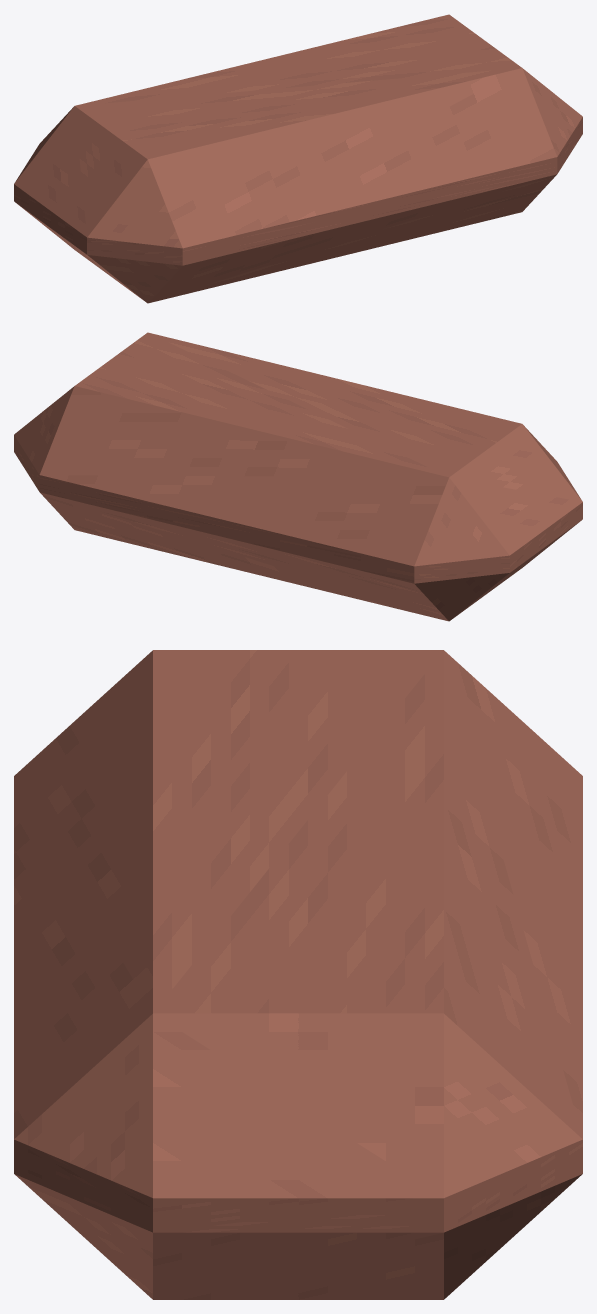
File: ibuprofen.glb
3 renders of one model, top to bottom at view 1: azimuth 30°, elevation 25°; view 2: azimuth 150°, elevation 25°; view 3: azimuth 270°, elevation 25°, orthographic. The views are drawn at different scales.
Visible parts, largest first — view 1: block_oblong caplet; view 2: block_oblong caplet; view 3: block_oblong caplet.
Part boxes in pixels (x1,y1,x2,y2): block_oblong caplet: (14, 14, 582, 303); block_oblong caplet: (14, 332, 582, 621); block_oblong caplet: (14, 650, 582, 1299).
Size of the model in its own units: 0.018 by 0.005 by 0.009.
Materials: 1 (1 with a texture image).
